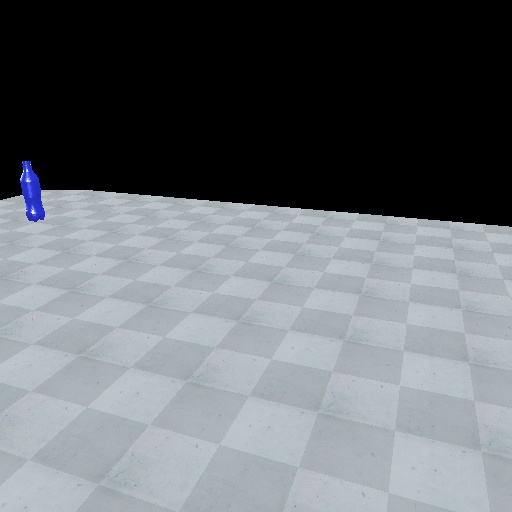bottle: (17, 157, 49, 224)
